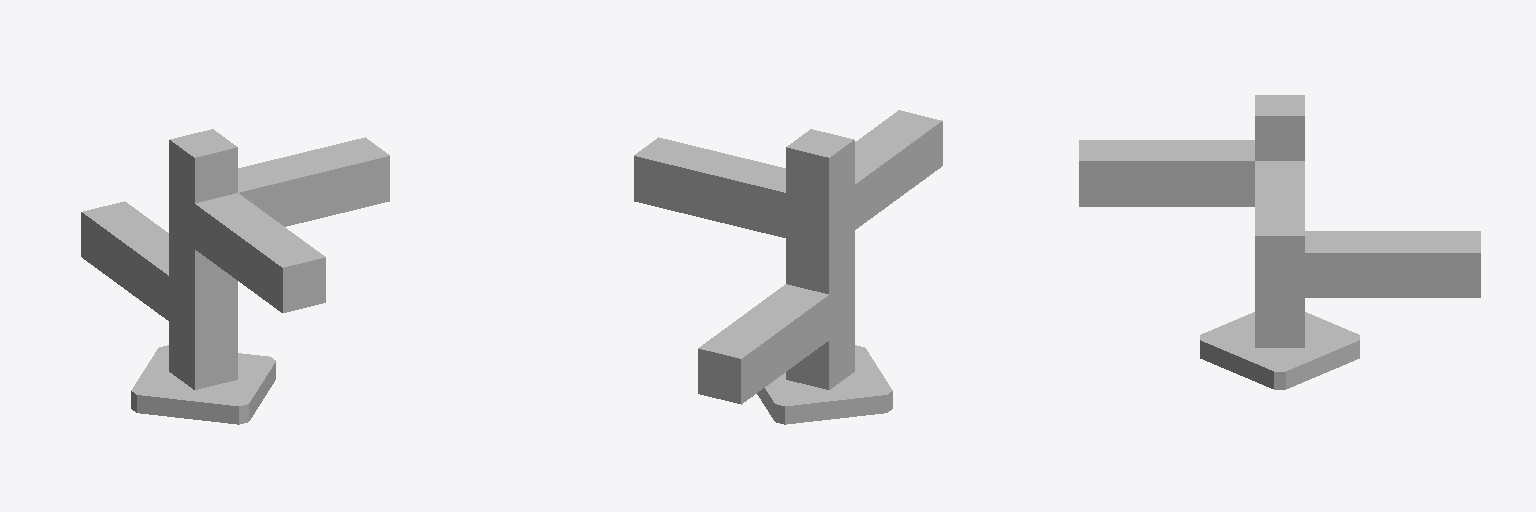
Rendered from obs1.obj.
The picture shows the model from 3 angles: view 1: azimuth 30°, elevation 25°; view 2: azimuth 150°, elevation 25°; view 3: azimuth 270°, elevation 25°; orthographic projection.
Visible parts, largest first — view 1: ob1_Cube.030; view 2: ob1_Cube.030; view 3: ob1_Cube.030.
Part boxes in pixels (x1,y1,x2,y2): ob1_Cube.030: (81,129,389,424); ob1_Cube.030: (634,110,942,424); ob1_Cube.030: (1079,95,1480,389).
Bounding box in the file's own units: 1.4 × 1.38 × 2.